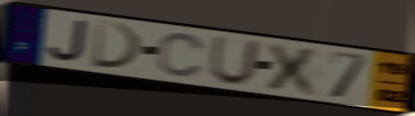7: (329, 49, 368, 101)
C: (155, 31, 207, 79)
D: (90, 19, 147, 72)
J: (45, 19, 90, 63)
U: (207, 34, 262, 87)
X: (262, 41, 324, 98)
